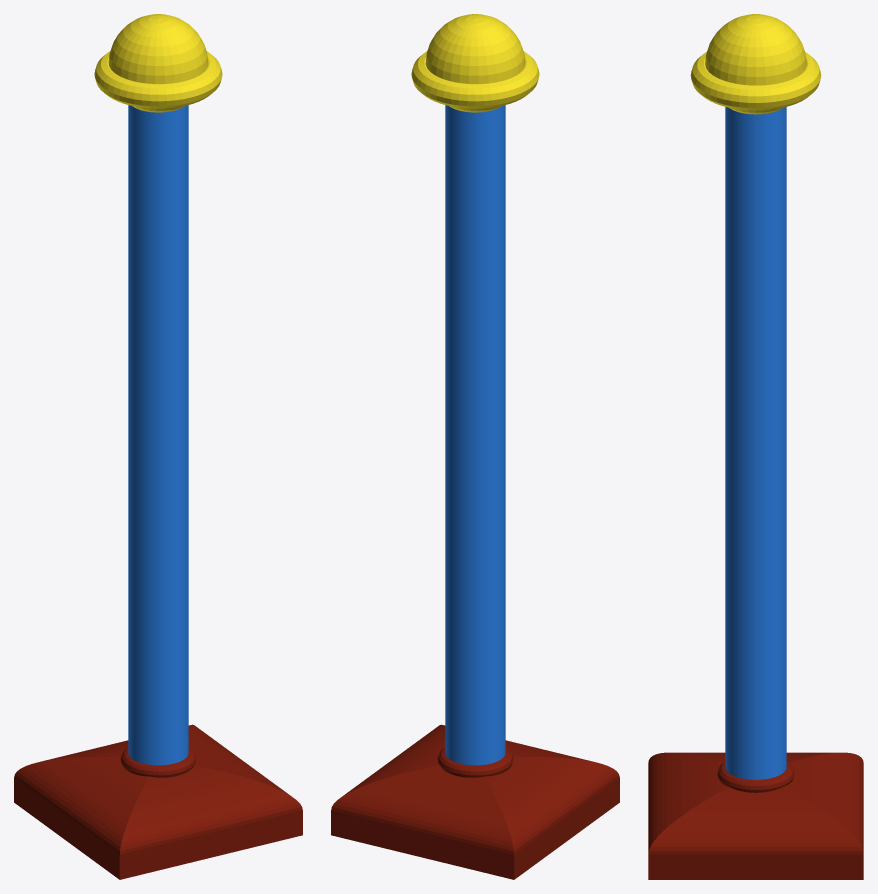
File: Pole.fbx
3 renders of one model, left to right at view 1: azimuth 30°, elevation 25°; view 2: azimuth 150°, elevation 25°; view 3: azimuth 270°, elevation 25°, orthographic.
Parts seen in each view (by area): view 1: Pole; view 2: Pole; view 3: Pole.
Part boxes in pixels (bbox=[...]): Pole: bbox=[14, 14, 302, 879]; Pole: bbox=[331, 14, 619, 879]; Pole: bbox=[648, 14, 863, 879].
Bounding box in the file's own units: 700 × 2924 × 700.
1 material, 1 textured.
